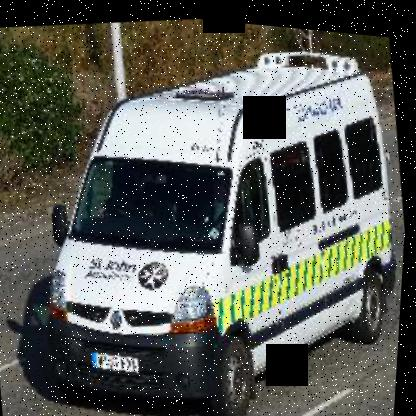emergency: (4, 28, 414, 415)
